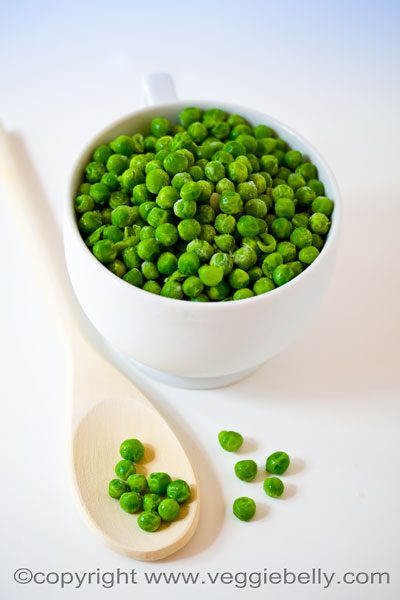boiled peas: (132, 148, 276, 278), (211, 424, 295, 536), (111, 440, 176, 523)
